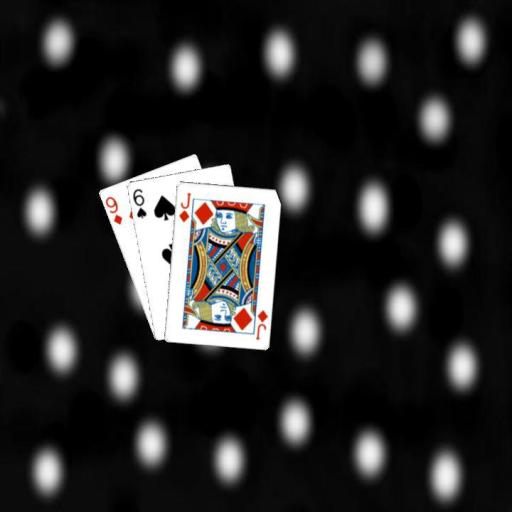6S: (129, 186, 148, 220)
9D: (102, 194, 124, 226)
JD: (252, 307, 269, 341), (176, 189, 192, 223)
